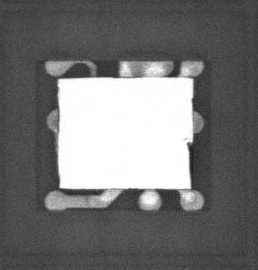DIE_BROKEN: (185, 138, 193, 191)
